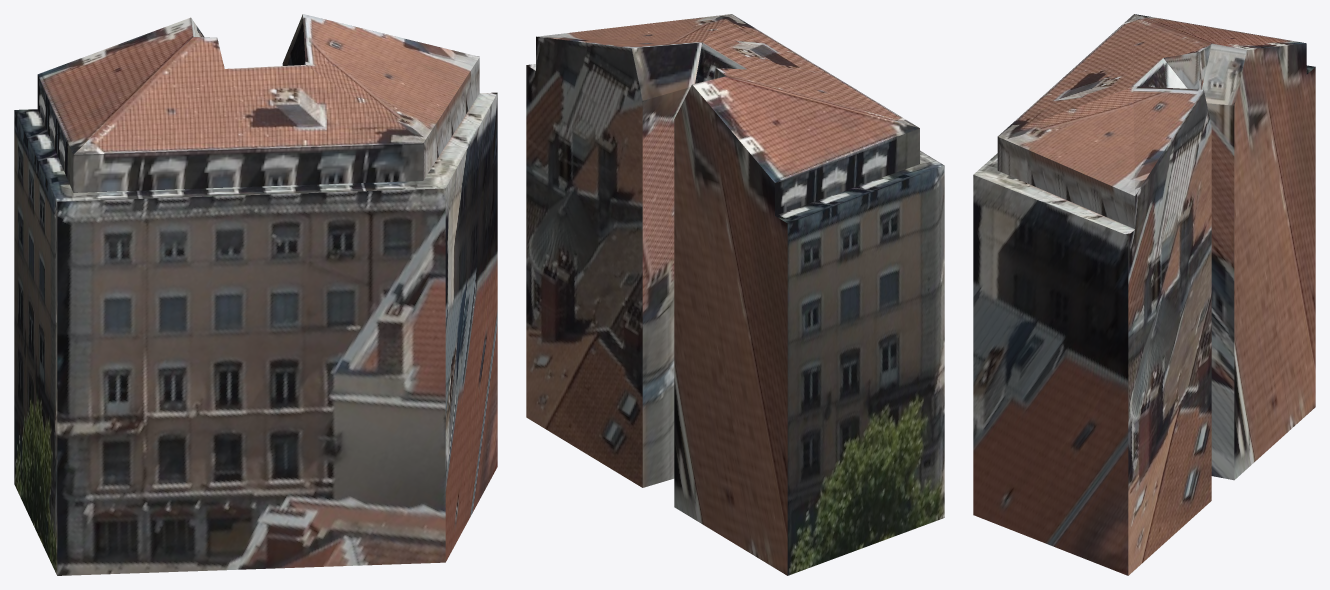
3 renders of one model, left to right at view 1: azimuth 30°, elevation 25°; view 2: azimuth 150°, elevation 25°; view 3: azimuth 270°, elevation 25°, orthographic. The views are drawn at different scales.
Parts seen in each view (by area): view 1: Z_UP; view 2: Z_UP; view 3: Z_UP.
Part boxes in pixels (x1=…): Z_UP: x1=14, y1=14, x2=497, y2=575; Z_UP: x1=526, y1=14, x2=944, y2=575; Z_UP: x1=973, y1=14, x2=1315, y2=575.
Size of the model in its own units: 25.36 by 25.23 by 18.7.
2 materials, 1 textured.
